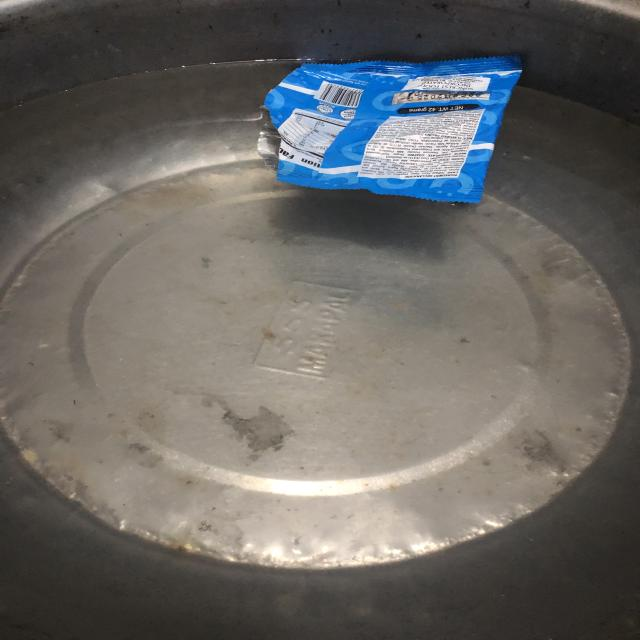Plastic Wrapper: (248, 46, 523, 206)
